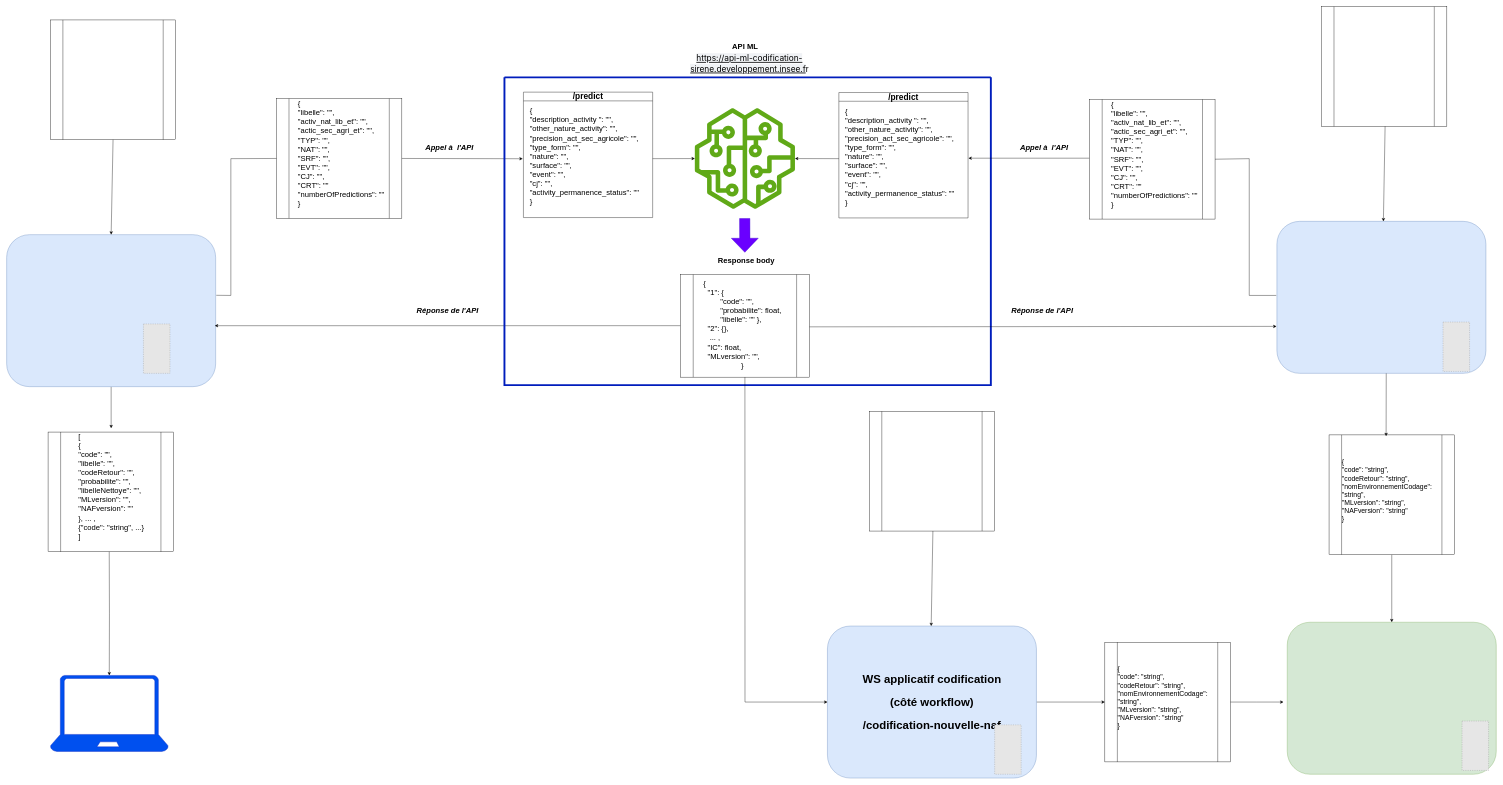
Some shapes in this 1503 by 785 pixel diagram are drawn without their labels. Grey dashed boxes stand in for pictures. Here are the shapes that lost their labels. From the top down, the box of each, then its label:
(6, 234, 216, 387): WS applicatif codification (côté IHM) /recherche
(1277, 221, 1486, 373): WS applicatif codification (côté workflow) /codification
(50, 675, 168, 751): IHM
(1287, 622, 1496, 774): Module de réconciliation/harmonisation des 2 NAF
